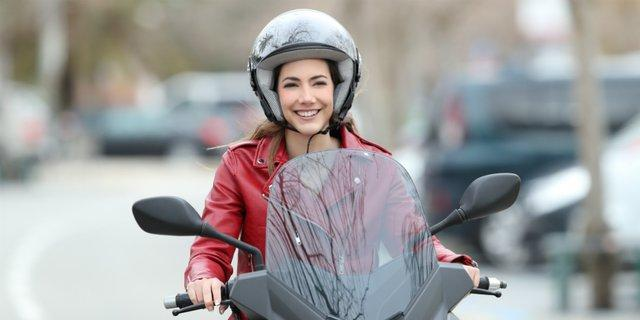helm: (247, 10, 369, 133)
motor: (131, 151, 536, 320)
